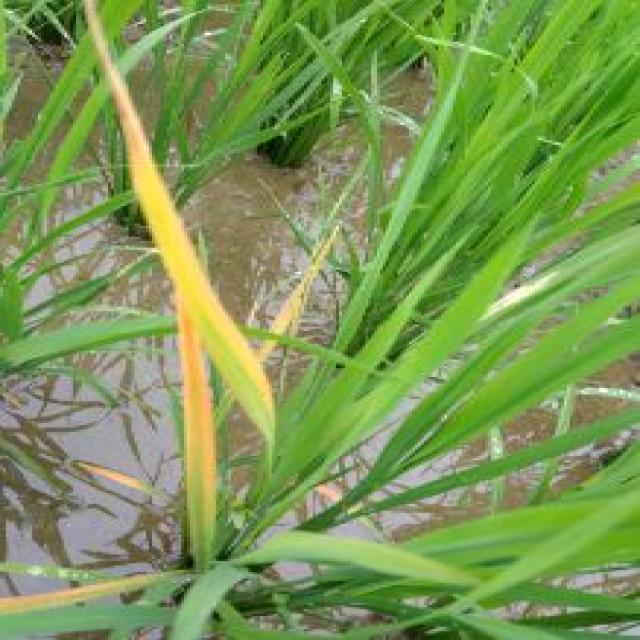Tungro: (78, 19, 275, 568)
